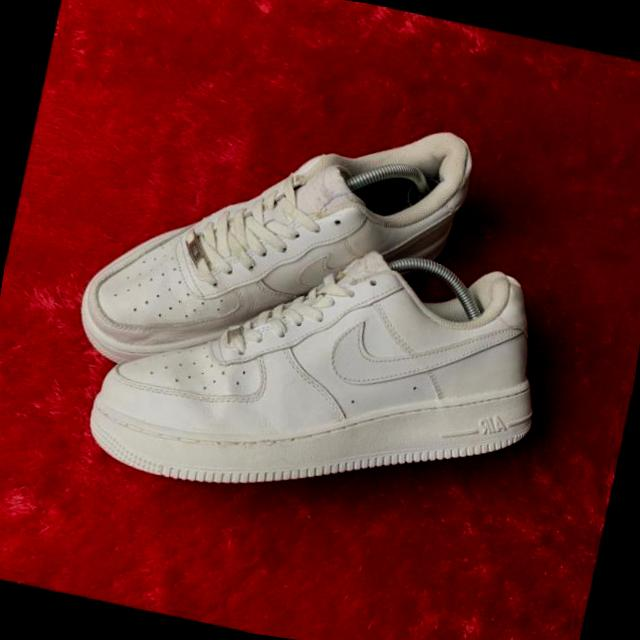nike_fake_airforce: (75, 192, 576, 554), (59, 55, 487, 422)
